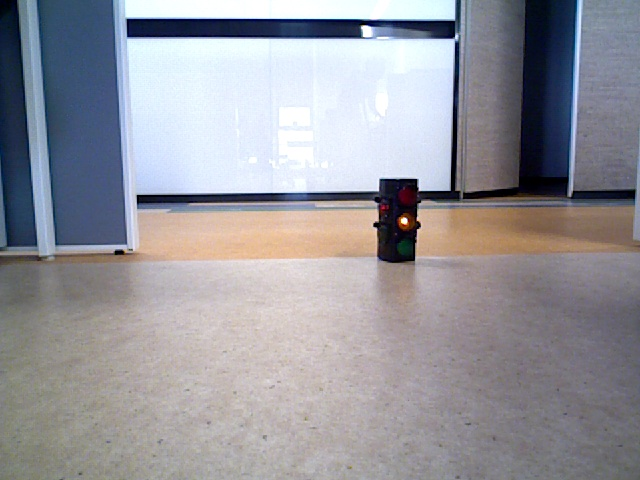yellow: (380, 182, 413, 257)
